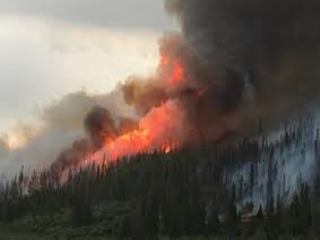fire: (160, 144, 174, 157)
smoke: (155, 6, 315, 148), (24, 86, 203, 168)
